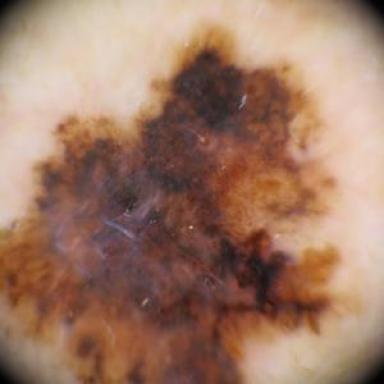Melanoma: (0, 23, 340, 384)
